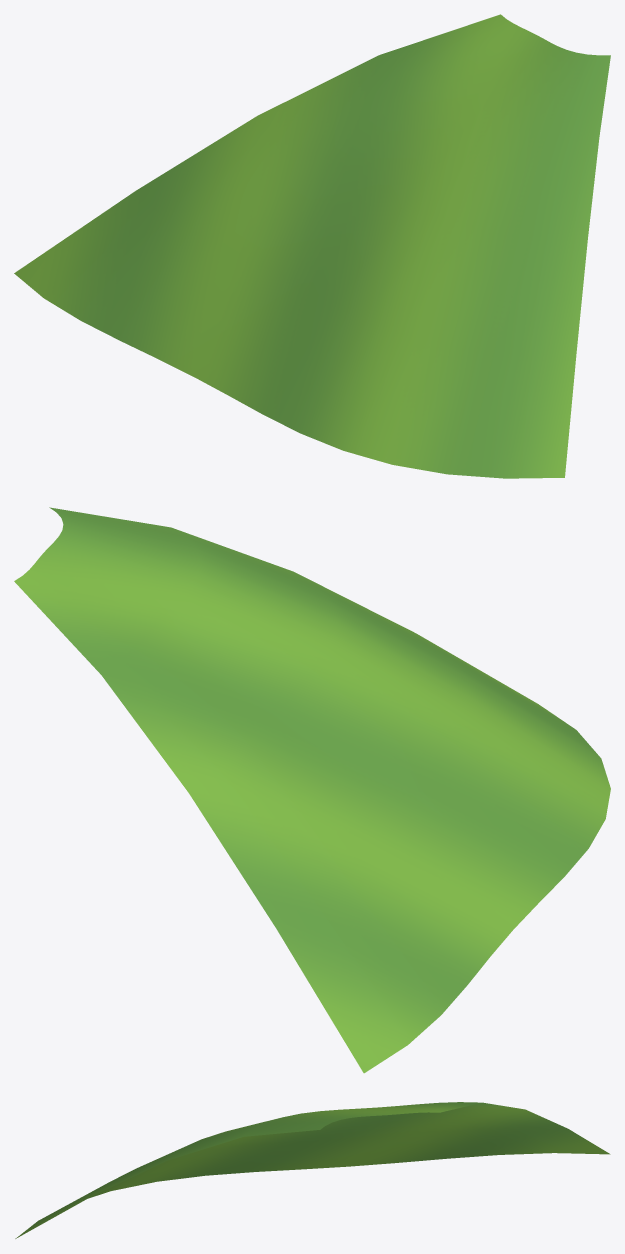
Rendered from ISL-S_LOD0_Grass.fbx.
The picture shows the model from 3 angles, top to bottom: view 1: azimuth 30°, elevation 25°; view 2: azimuth 150°, elevation 25°; view 3: azimuth 270°, elevation 25°; orthographic projection. The views are drawn at different scales.
Visible parts, largest first — view 1: ISL-S_LOD0_Grass; view 2: ISL-S_LOD0_Grass; view 3: ISL-S_LOD0_Grass.
Boxes of the visible parts, x1=… form: ISL-S_LOD0_Grass: x1=14, y1=14, x2=610, y2=478; ISL-S_LOD0_Grass: x1=14, y1=507, x2=610, y2=1073; ISL-S_LOD0_Grass: x1=15, y1=1102, x2=610, y2=1238.
Bounding box in the file's own units: 13.01 × 18.15 × 6.85.
